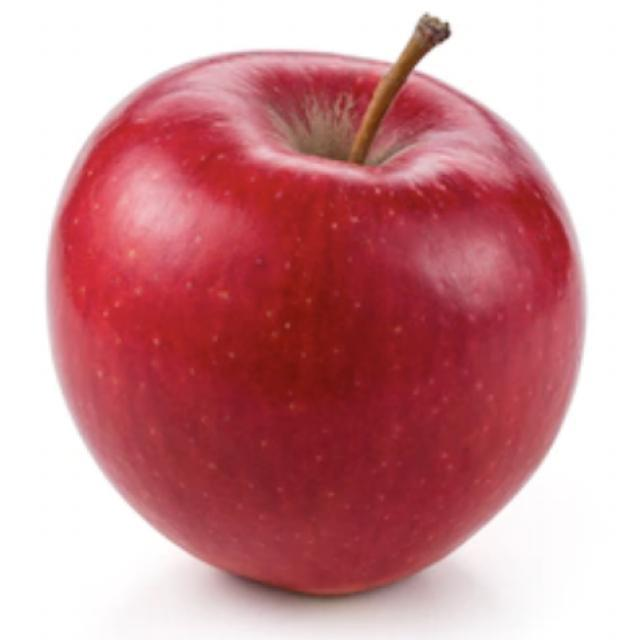Fresh Apple: (56, 36, 565, 640)
